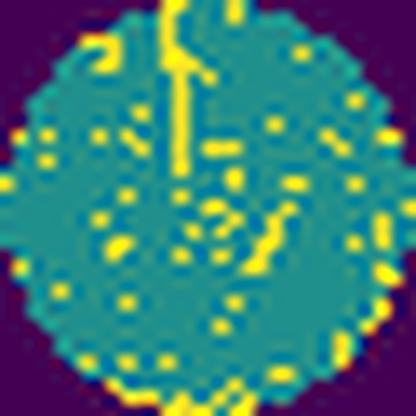Scratch: (152, 0, 223, 184)
